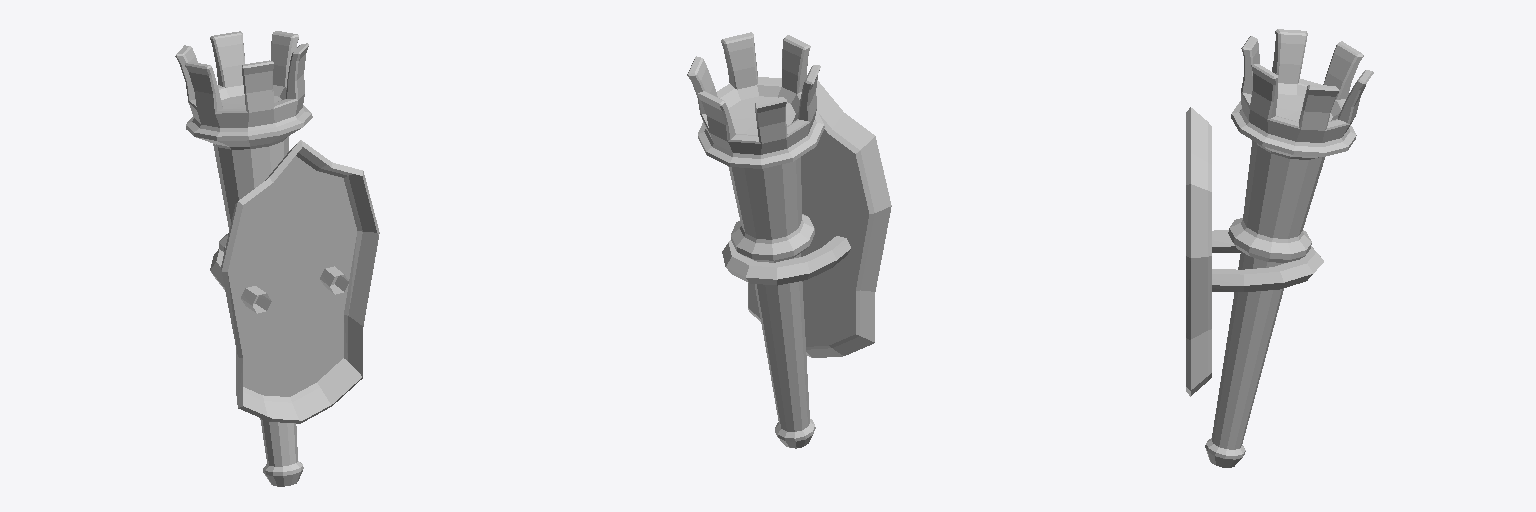
Rendered from torch.obj.
The picture shows the model from 3 angles: view 1: azimuth 30°, elevation 25°; view 2: azimuth 150°, elevation 25°; view 3: azimuth 270°, elevation 25°; orthographic projection.
Parts seen in each view (by area): view 1: torch8 Hall; view 2: torch8 Hall; view 3: torch8 Hall.
Part boxes in pixels (x1,y1,x2,y2): torch8 Hall: (175,31,379,486); torch8 Hall: (687,32,891,448); torch8 Hall: (1186,29,1373,467).
Size of the model in its own units: 1.96 by 4.94 by 2.02.